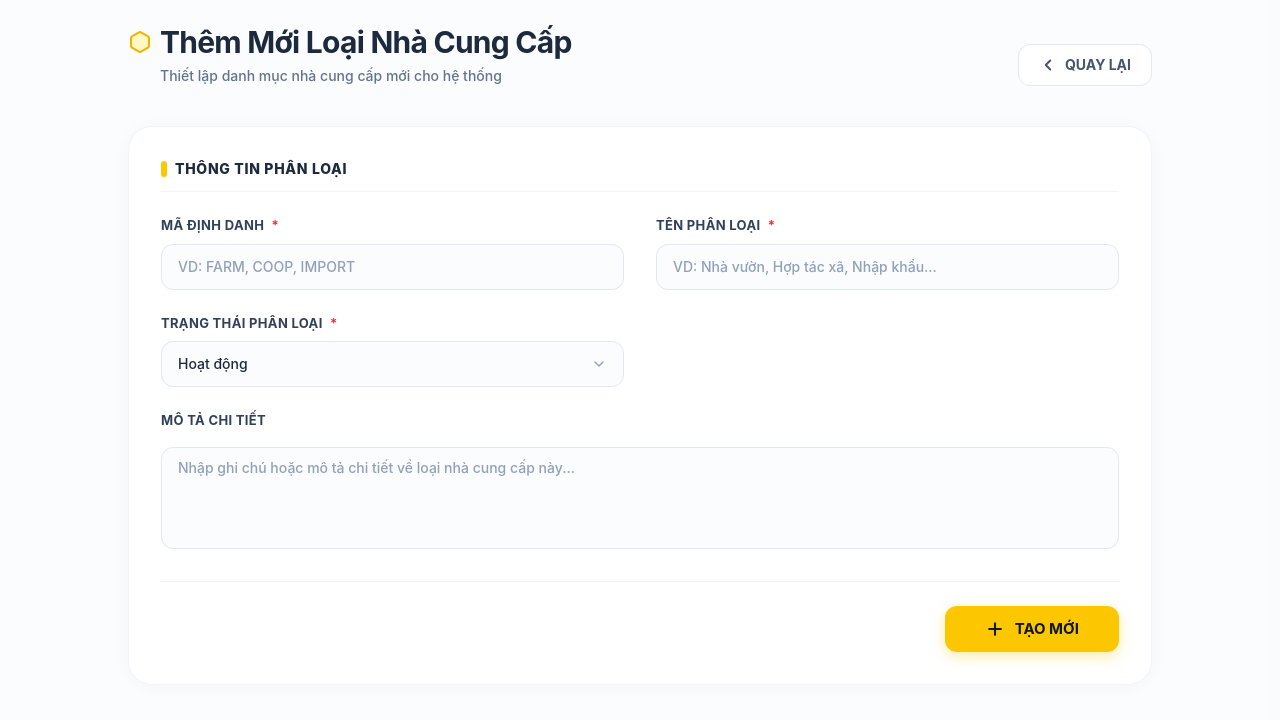
Test: Module 03 - SupplierTypeForm Component › TC03 - Báo lỗi trùng lặp mã Code và Tên ngay trên giao diện
Check: the heading "Thêm Mới Loại Nhà Cung Cấp" is shown, box [160, 24, 572, 60]
// Nhập trùng mã FARM và trùng tên "Nhà vườn"
Type "farm" into the field with placeholder "VD: FARM, COOP, IMPORT" at [392, 266], box [161, 244, 624, 290]
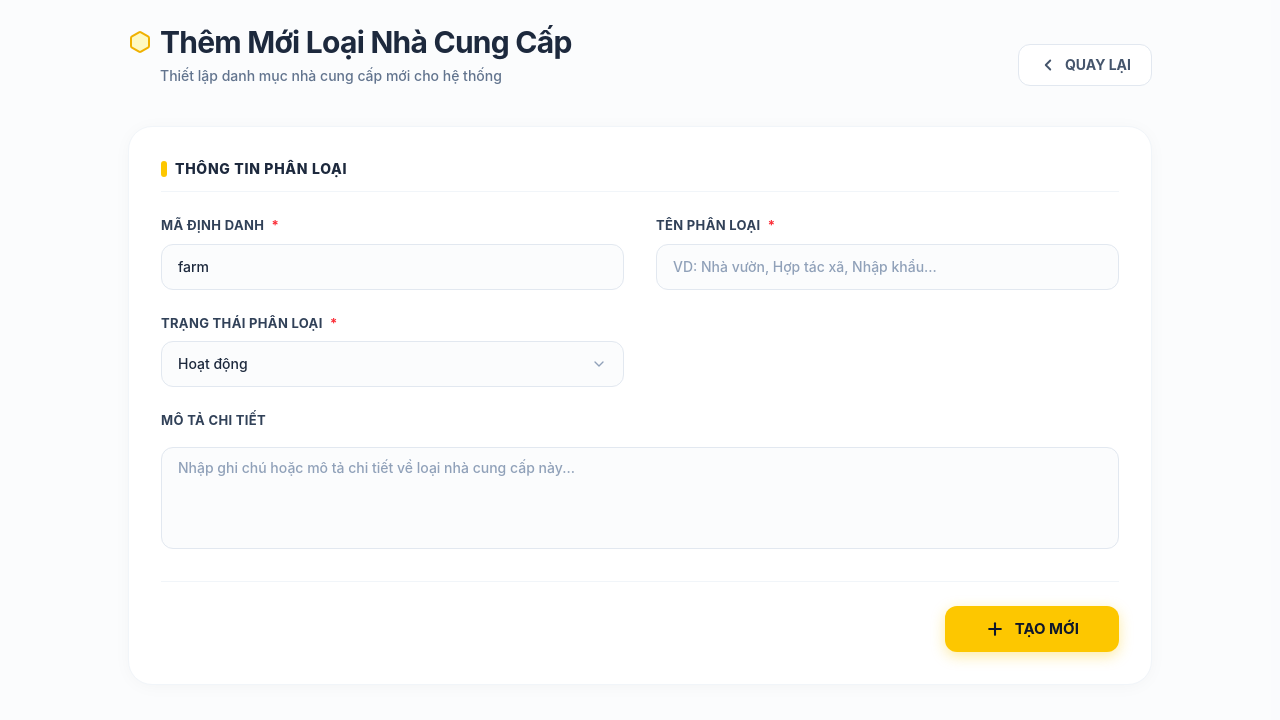
Type "Nhà vườn" into the field with placeholder "VD: Nhà vườn, Hợp tác xã, Nhập khẩu..." at [888, 266], box [656, 244, 1119, 290]
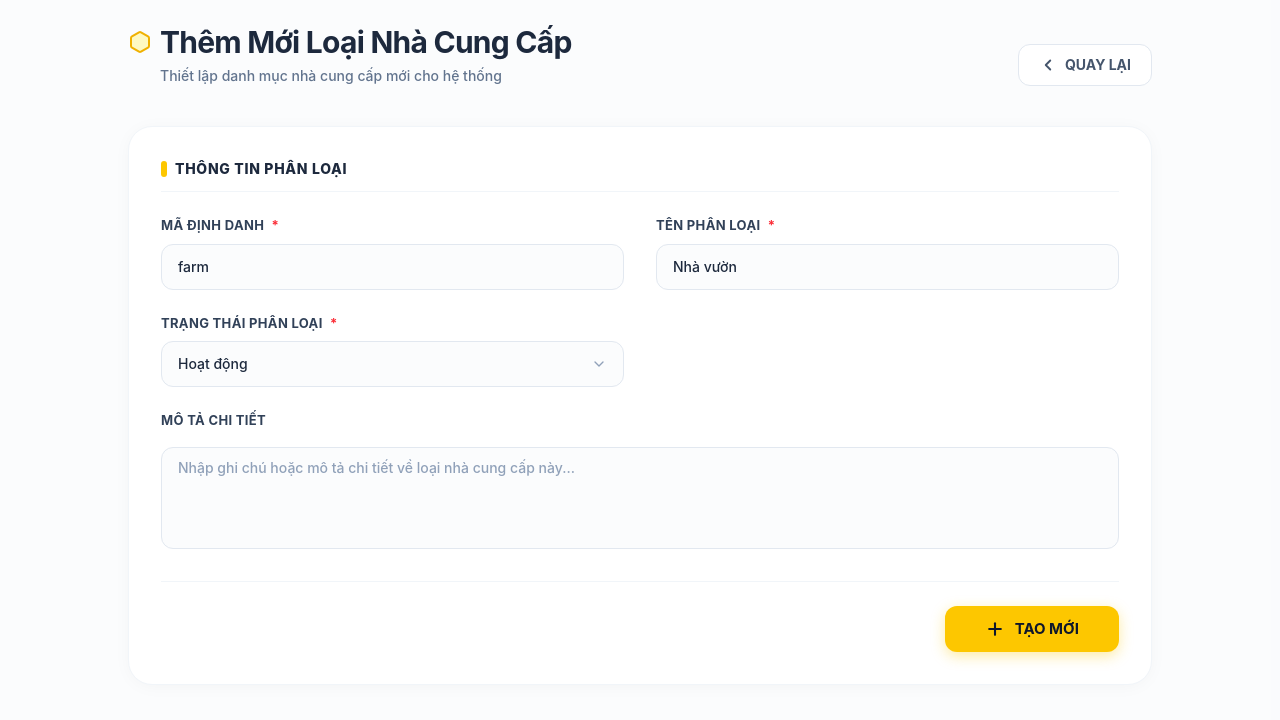
Click the button "TẠO MỚI" at [1032, 629], box [945, 606, 1119, 652]
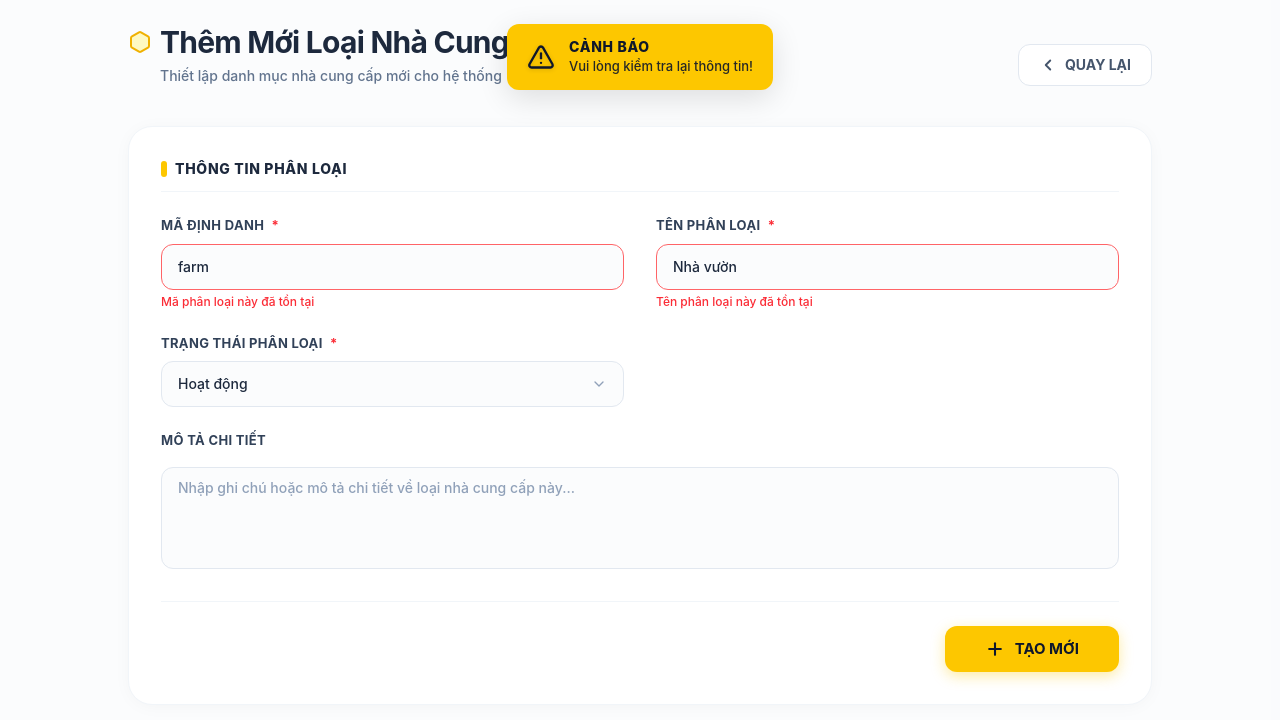
Check: the text "Mã phân loại này đã tồn tại" is shown, box [161, 294, 314, 308]
Check: the text "Tên phân loại này đã tồn tại" is shown, box [656, 294, 813, 308]
